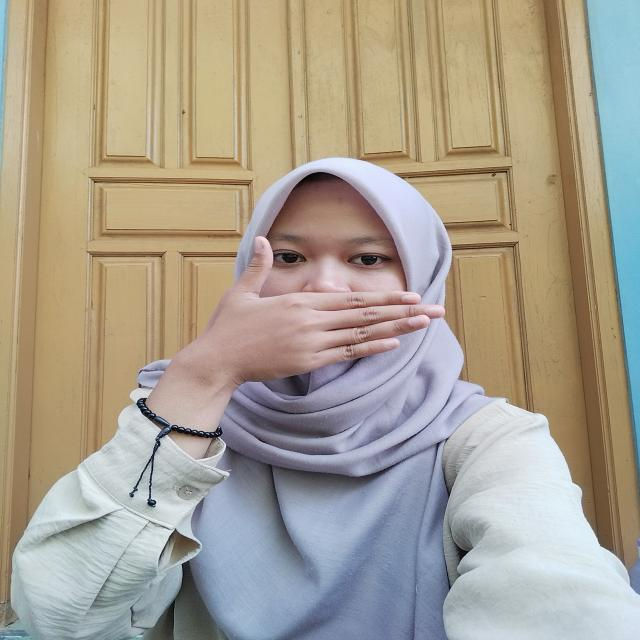buruk: (133, 238, 443, 422)
